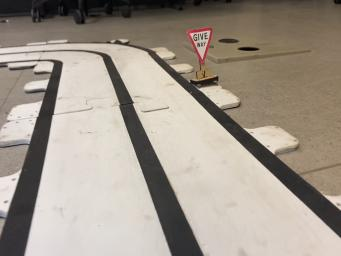give_way: (187, 28, 218, 88), (187, 28, 218, 88), (187, 28, 218, 88), (187, 28, 218, 88), (187, 28, 218, 88)
street: (0, 41, 341, 256), (0, 41, 341, 256), (0, 41, 341, 256), (0, 41, 341, 256), (0, 41, 341, 256)
